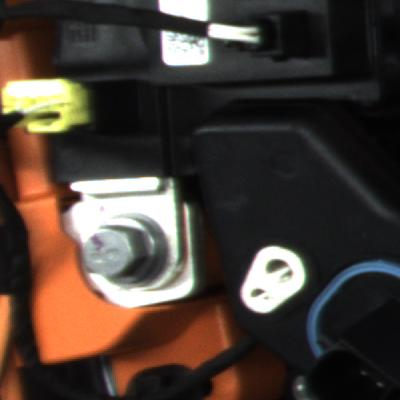nut_b: (83, 212, 177, 293)
